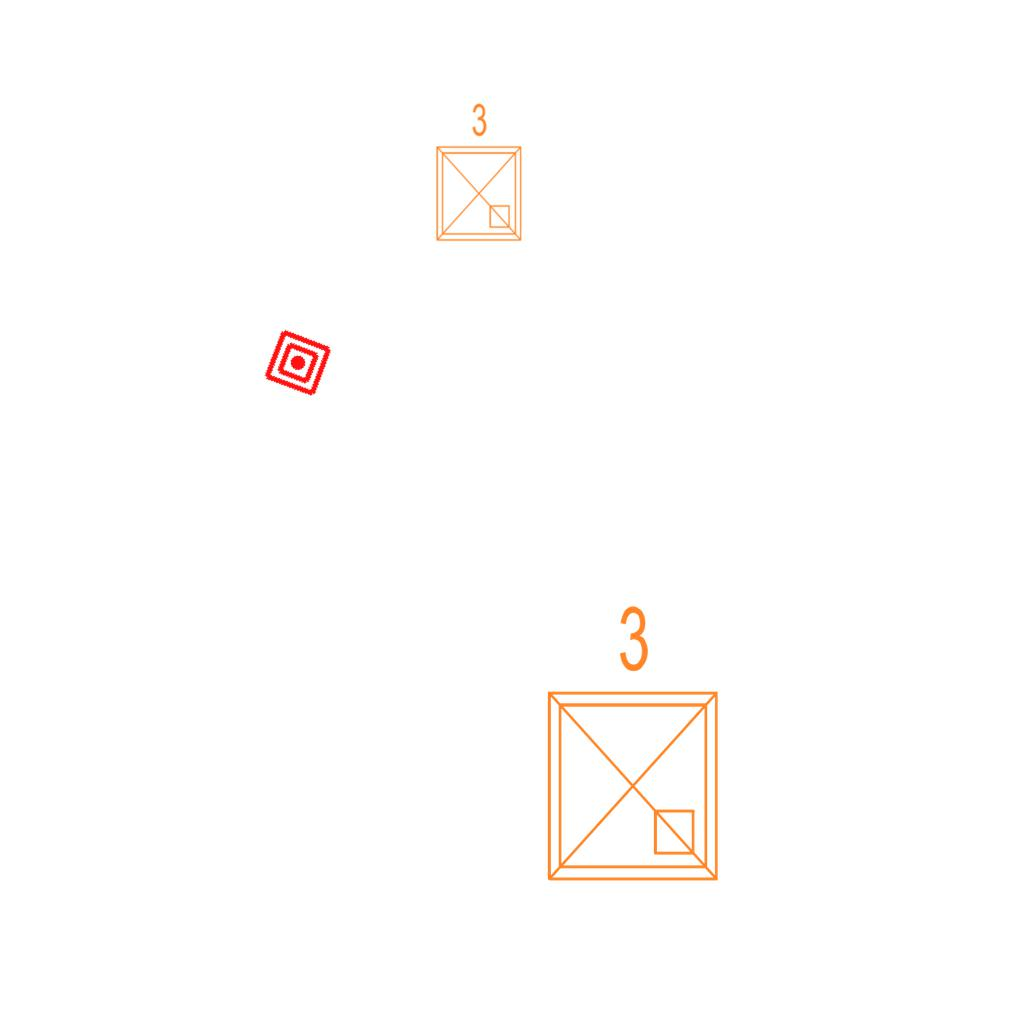Einbaudownlights_LED_Konferenzraeume: (525, 595, 733, 895), (425, 98, 529, 248)
NAM-Nichtautomatischer_Melder: (261, 326, 335, 400)
